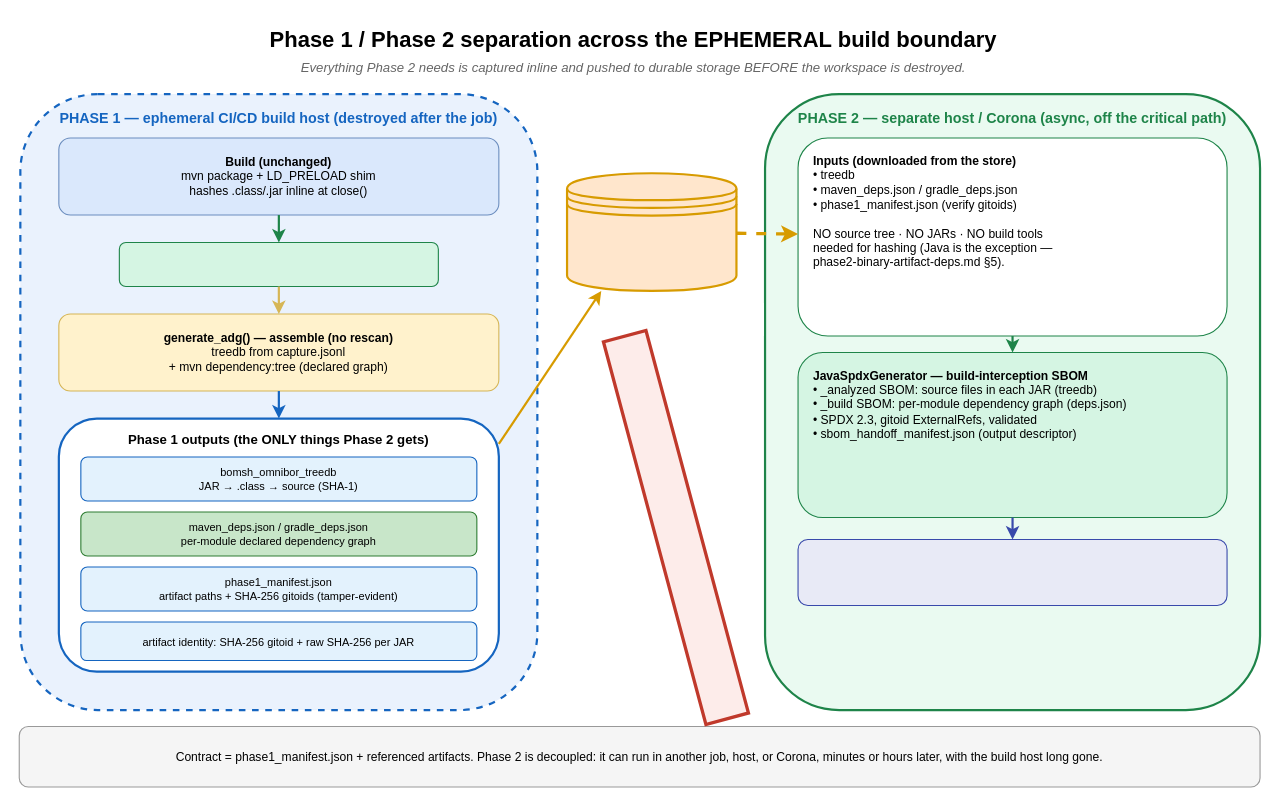
This 1280x806 diagram has some shape labels left out. Each missing label, with the centre of its shape:
capture.jsonl (inline events): point 278,264
CI/CD upload step (in-band, pre-teardown): point 650,319
Durable artifact store (S3 / Artifactory) push BEFORE teardown ~1–2 KB + treedb: point 651,232
EPHEMERAL BOUNDARY — workspace + JVM destroyed · source tree gone · JARs gone: point 675,527
Golden comparison — byte-identical to approved baseline; report diffs and STOP: point 1012,572
